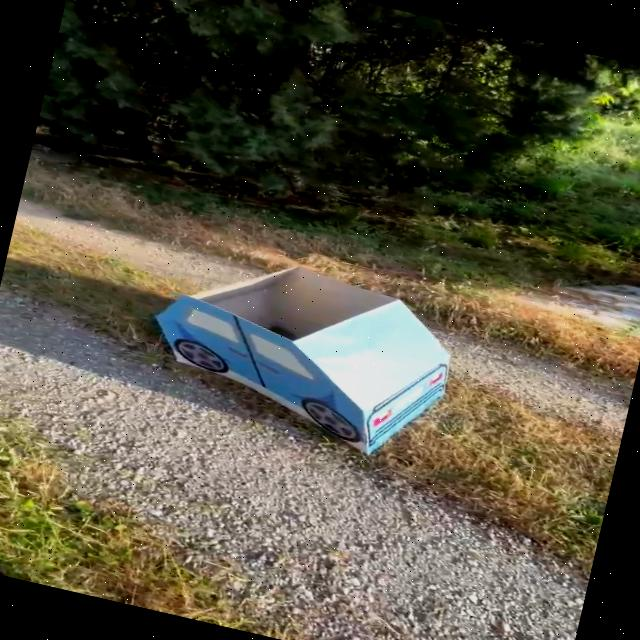blue_car: (83, 212, 528, 496)
